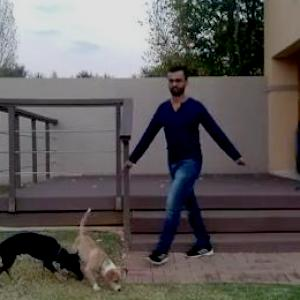land: (126, 69, 250, 274)
